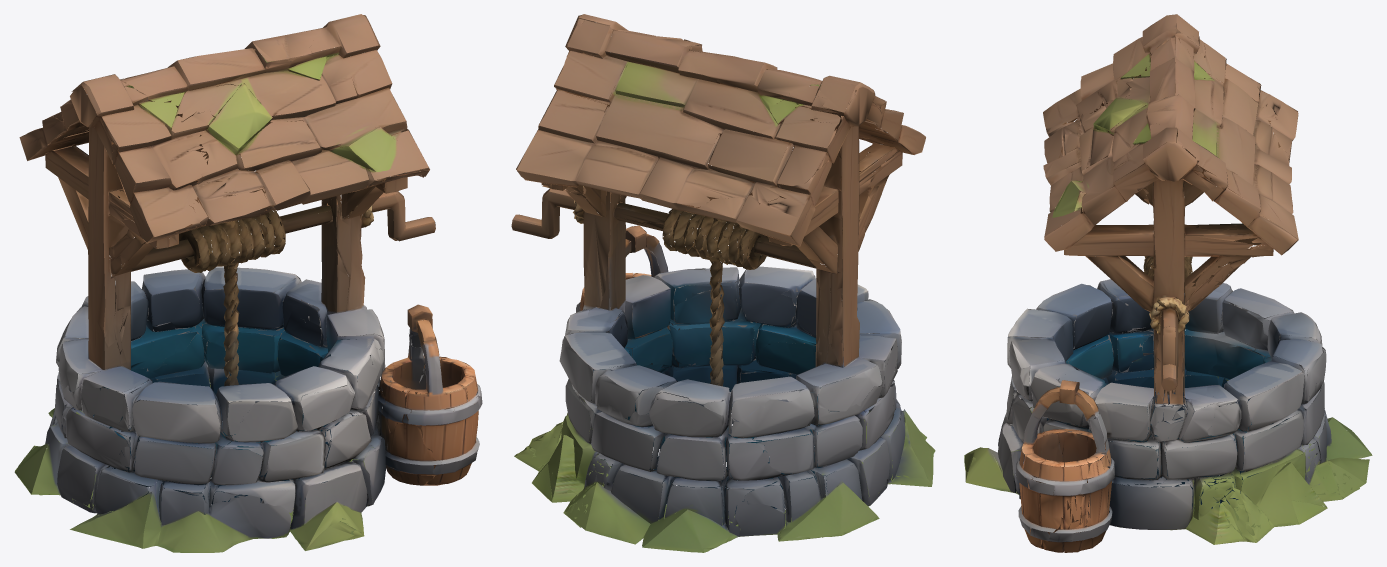
Rendered from Well.fbx.
The picture shows the model from 3 angles, left to right: view 1: azimuth 30°, elevation 25°; view 2: azimuth 150°, elevation 25°; view 3: azimuth 270°, elevation 25°; orthographic projection. The views are drawn at different scales.
Parts seen in each view (by area): view 1: Well_Model; view 2: Well_Model; view 3: Well_Model.
Boxes of the visible parts, bbox=[...] form: Well_Model: bbox=[14, 14, 482, 552]; Well_Model: bbox=[511, 14, 935, 552]; Well_Model: bbox=[964, 14, 1372, 552].
Bounding box in the file's own units: 216 × 221 × 208.
1 material, 1 textured.
